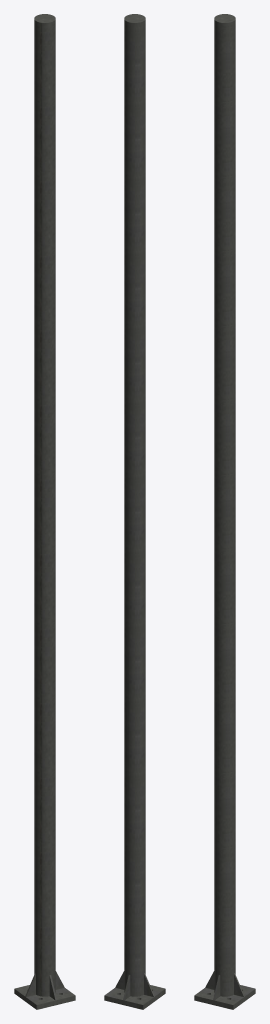
File: poste-6m.glb
The picture shows the model from 3 angles, left to right: view 1: azimuth 30°, elevation 25°; view 2: azimuth 150°, elevation 25°; view 3: azimuth 330°, elevation 25°; orthographic projection.
Parts seen in each view (by area): view 1: Poste_3m_1_1; view 2: Poste_3m_1_1; view 3: Poste_3m_1_1.
Boxes of the visible parts, x1=… form: Poste_3m_1_1: x1=14, y1=14, x2=75, y2=1009; Poste_3m_1_1: x1=104, y1=14, x2=165, y2=1009; Poste_3m_1_1: x1=194, y1=14, x2=255, y2=1009.
Size of the model in its own units: 0.25 by 6 by 0.25.
Materials: 1 (1 with a texture image).
